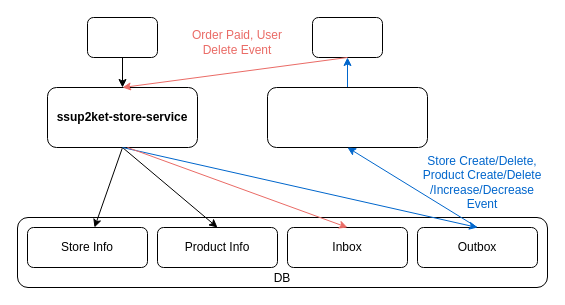
The diagram is 565 pixels wide and 305 high, and some of its shapes have lost their labels. Here are the shapes that lost their labels. From the top down, the centre of each, then its label:
At (122,37): "Client".
At (347,37): "Kafka".
At (347,117): "ssup2ket-auth-service debezium outbox router".
